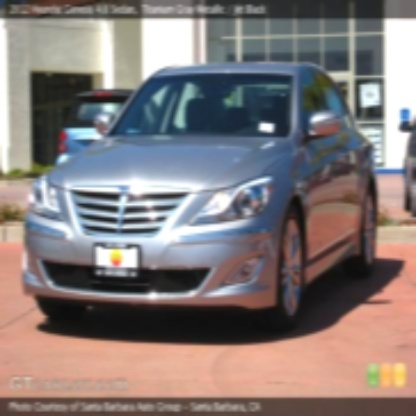Vehicle: (20, 59, 382, 343)
